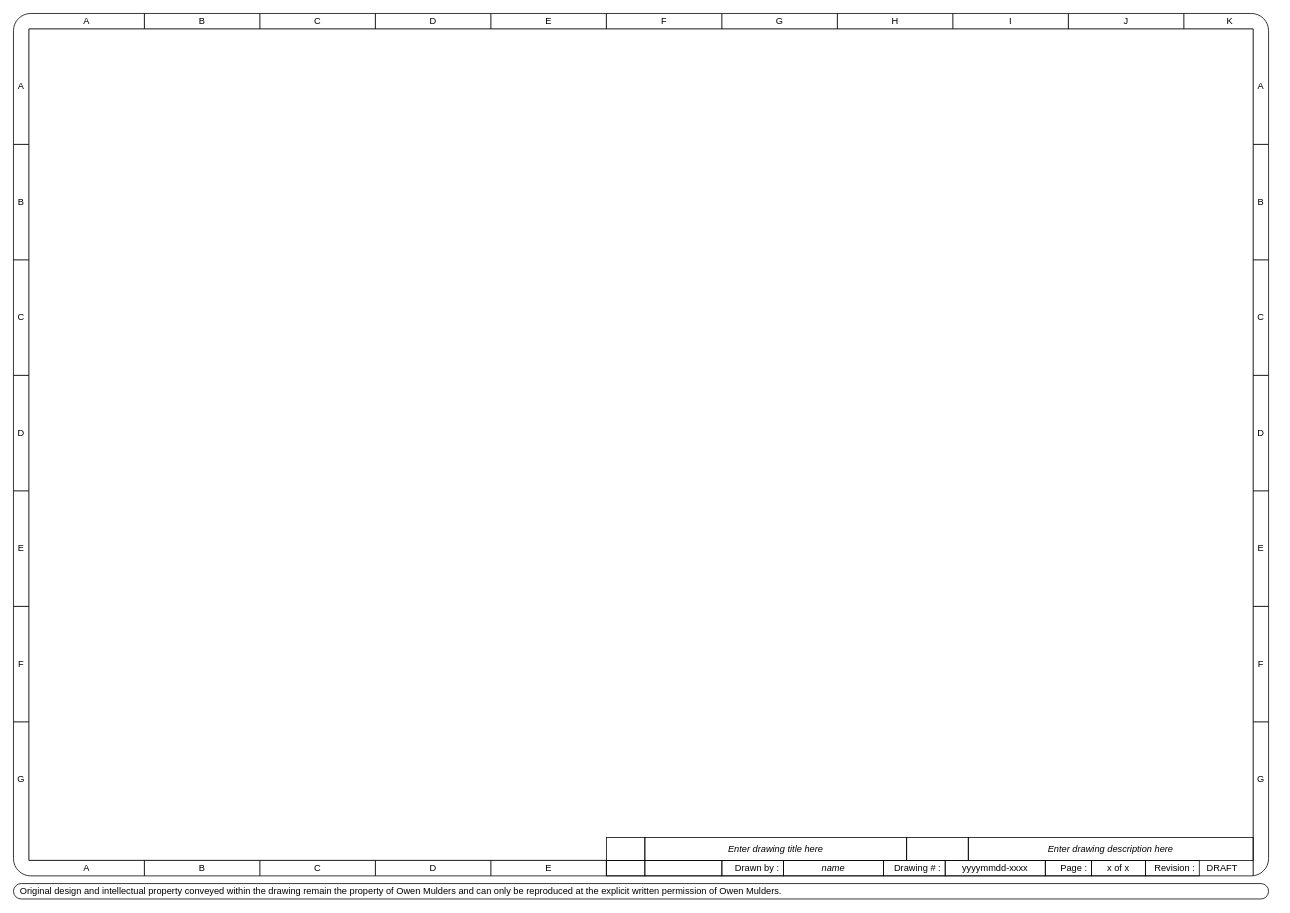
This 1290x913 diagram has some shape labels left out. The centre of each missing label's shape, as x and y in pixels:
"Date :" goes at (625,868).
"dd/mm/yyyy" goes at (683,868).
"Description :" goes at (937,848).
"Title :" goes at (625,848).
